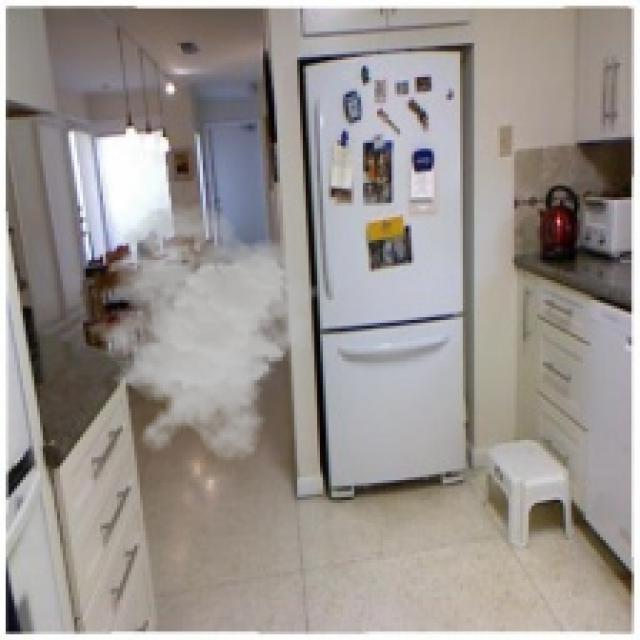Smoke: (74, 203, 320, 463)
